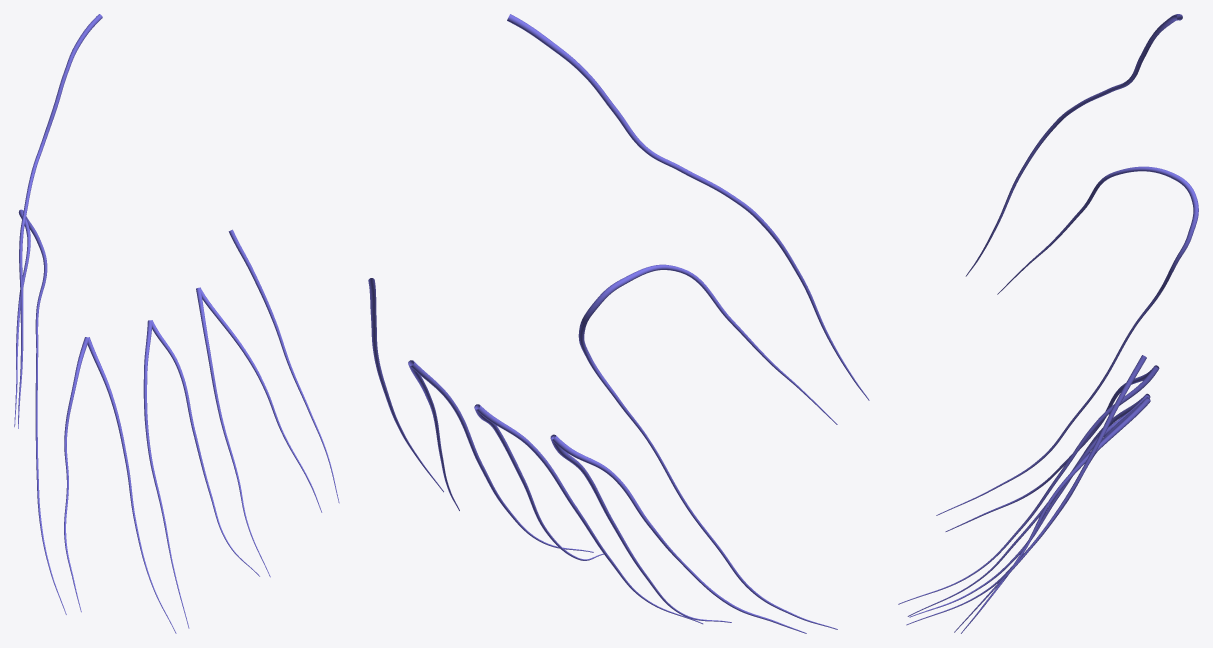
Rendered from Dorsal_digital_veins_hand_right.glb.
3 views of the same model, side by side, from view 1: azimuth 30°, elevation 25°; view 2: azimuth 150°, elevation 25°; view 3: azimuth 270°, elevation 25° (orthographic). The views are drawn at different scales.
Parts seen in each view (by area): view 1: Dorsal_digital_veins_of_hand.r_BezierCurve.355; view 2: Dorsal_digital_veins_of_hand.r_BezierCurve.355; view 3: Dorsal_digital_veins_of_hand.r_BezierCurve.355.
Boxes of the visible parts, x1,y1,x2,y2 form: Dorsal_digital_veins_of_hand.r_BezierCurve.355: (14, 14, 339, 633); Dorsal_digital_veins_of_hand.r_BezierCurve.355: (368, 14, 869, 633); Dorsal_digital_veins_of_hand.r_BezierCurve.355: (898, 14, 1198, 633).
Size of the model in its own units: 0.1062 by 0.1658 by 0.0732.
